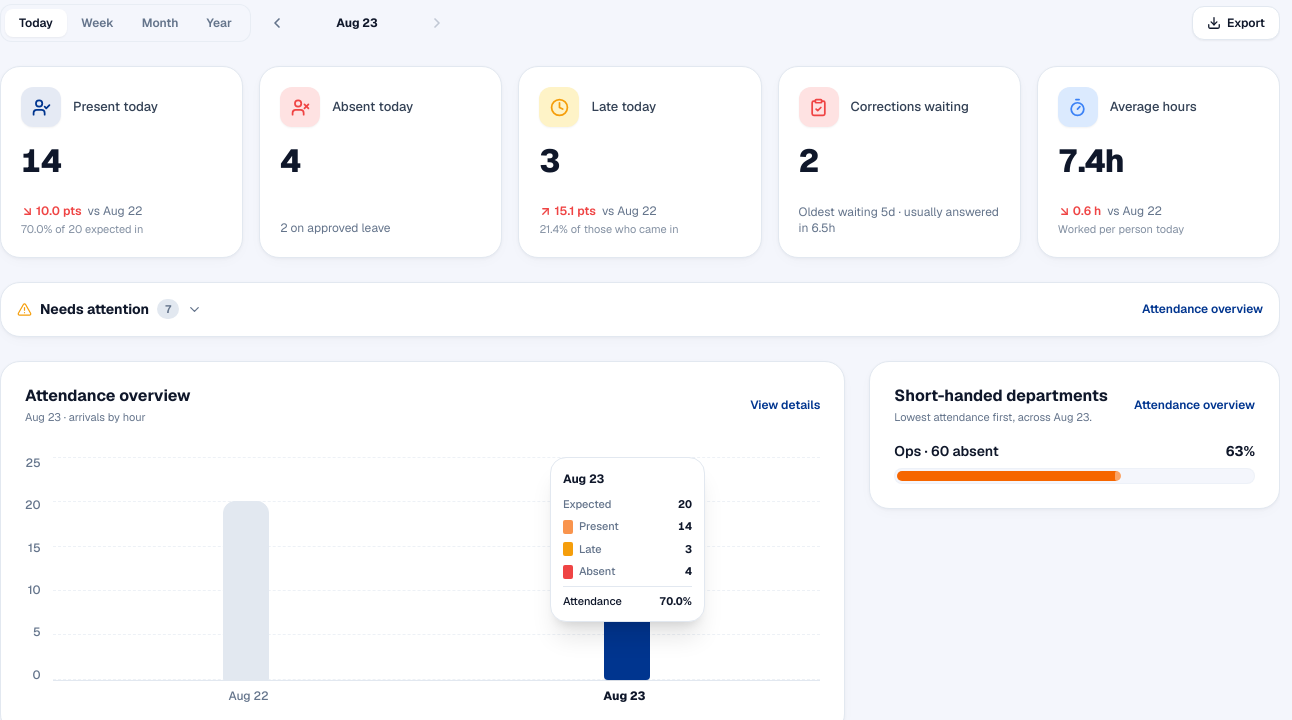
it: the time & attendance hub › moves the KPI cards with the period, and relabels them
Expected: the text "Present today" is shown, [73,98,158,116]
Expected: the link to "/dashboard/attendance" shows "14", [0,66,243,258]
Click the button "Month" at coordinates (160, 23), box [128,9,192,37]
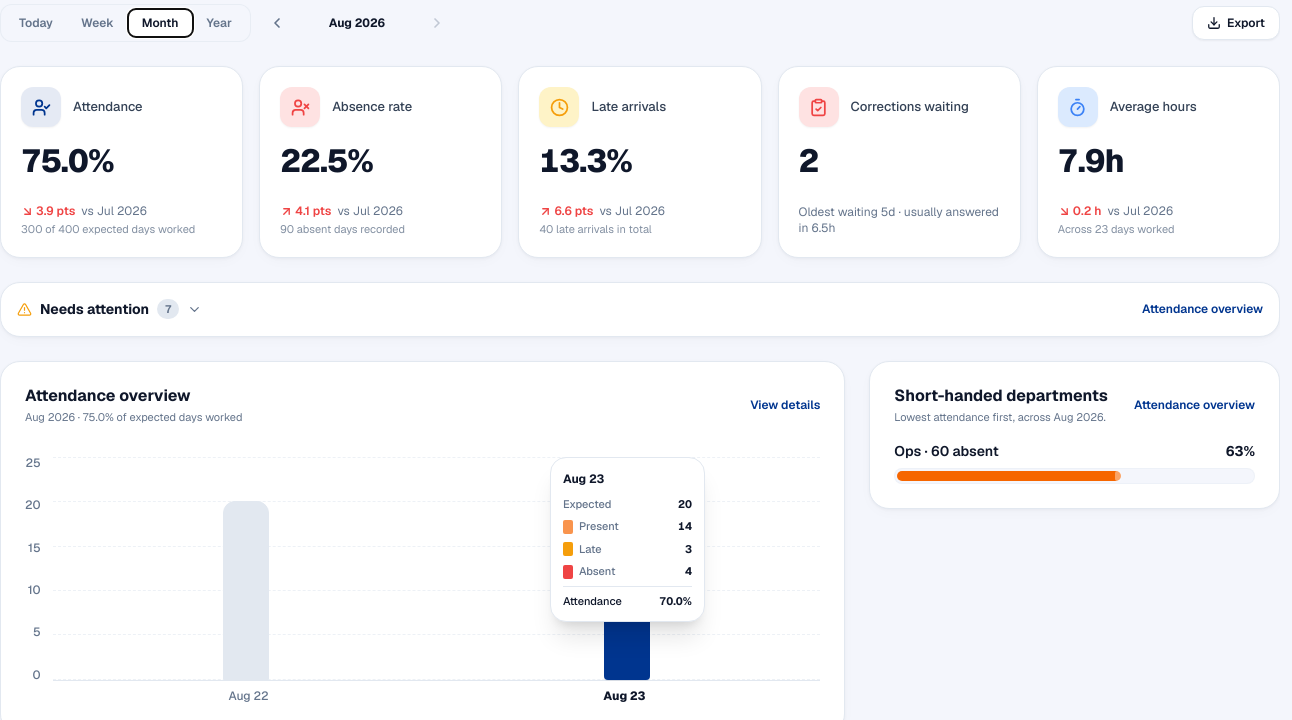
Expected: the link to "/dashboard/attendance" is shown, [0,66,243,258]
Expected: the link "Present today" is gone
Expected: the link to "/dashboard/attendance" shows "75.0%", [0,66,243,258]
